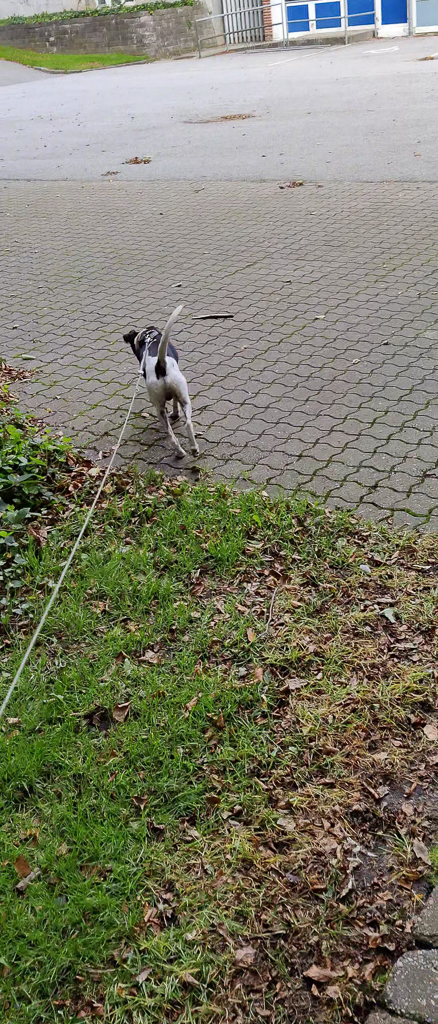Dog: (109, 293, 225, 470)
